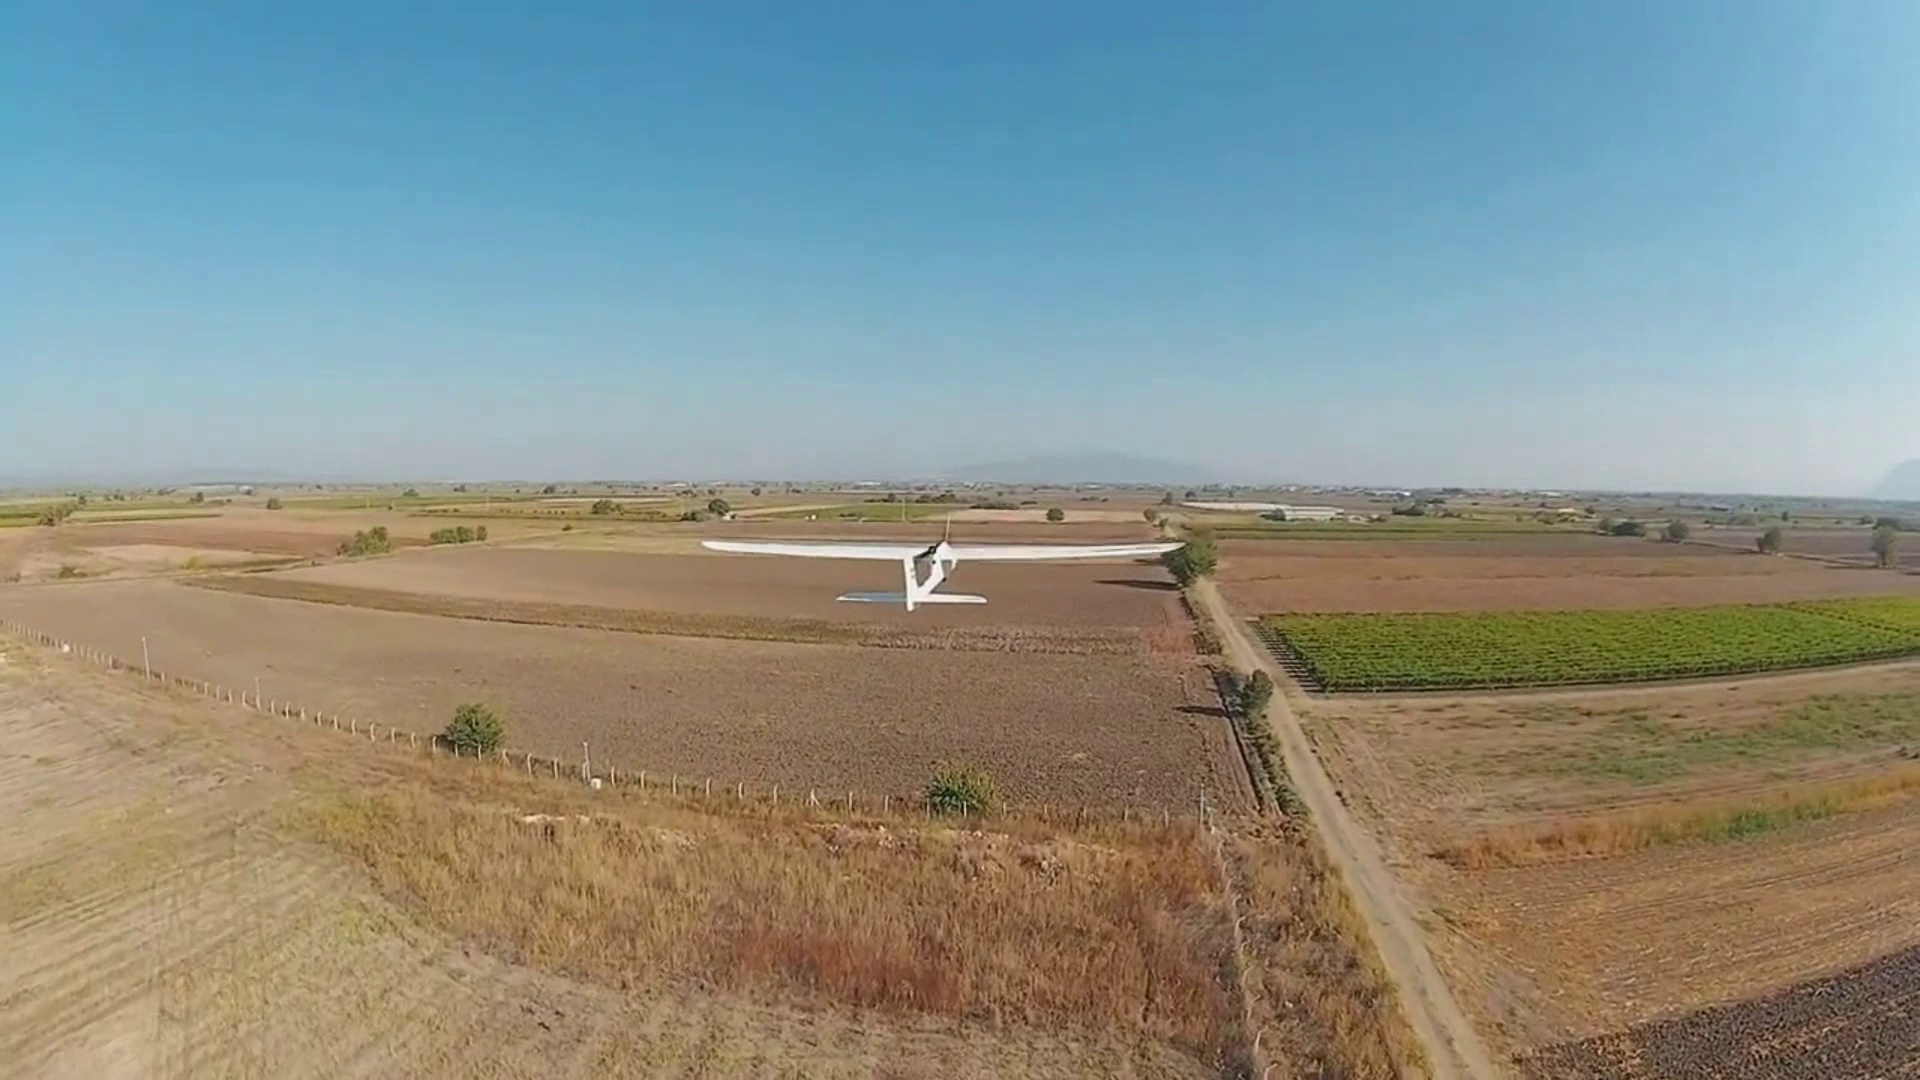airplane: (697, 527, 964, 610)
